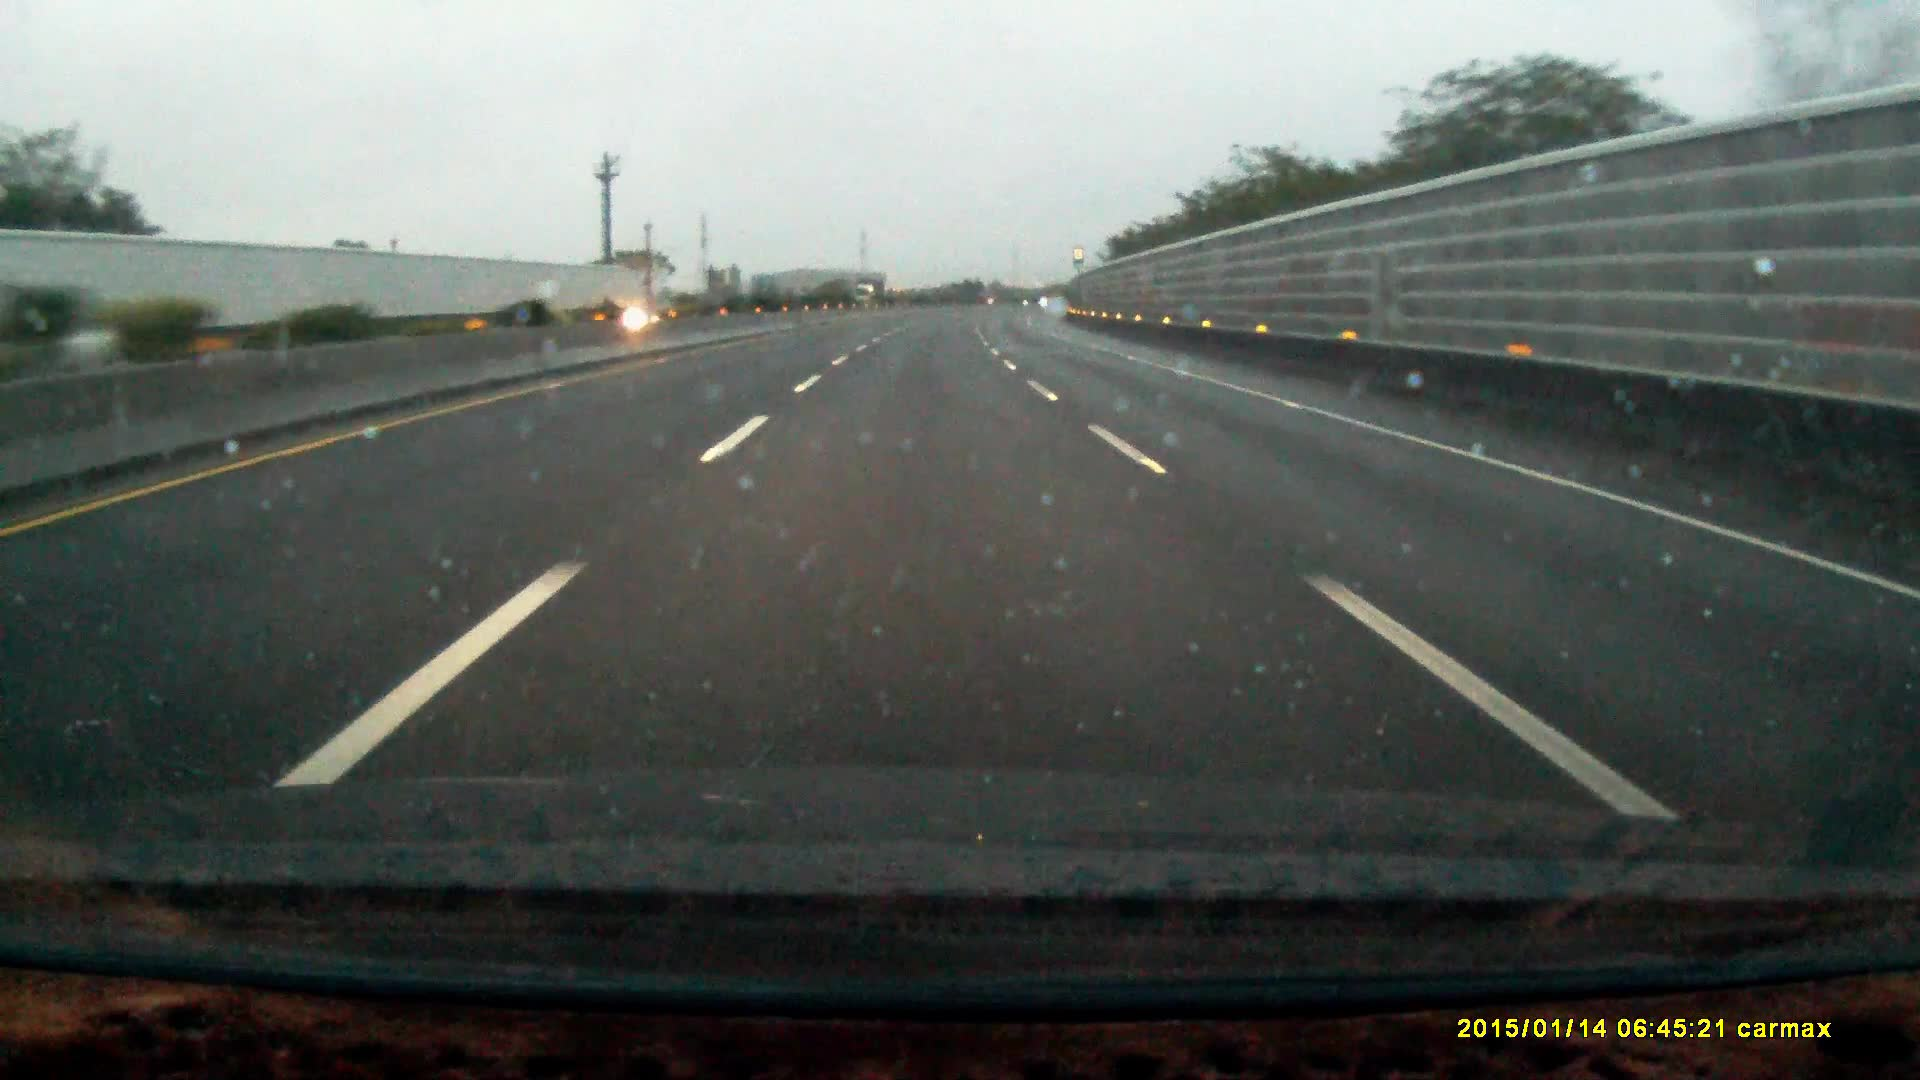vehicle: (855, 278, 887, 305)
